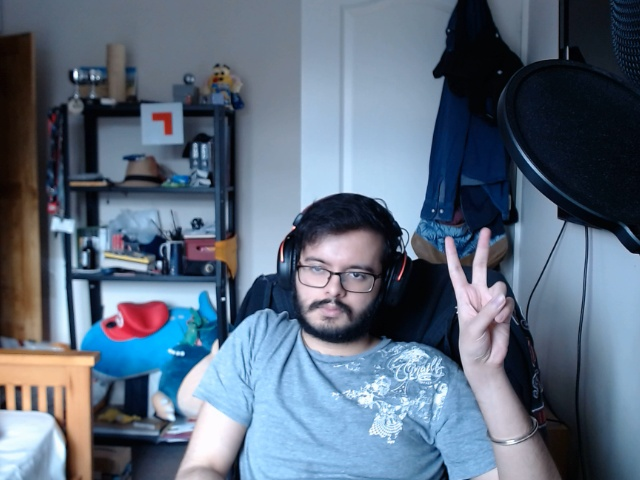Peace: (440, 222, 531, 379)
